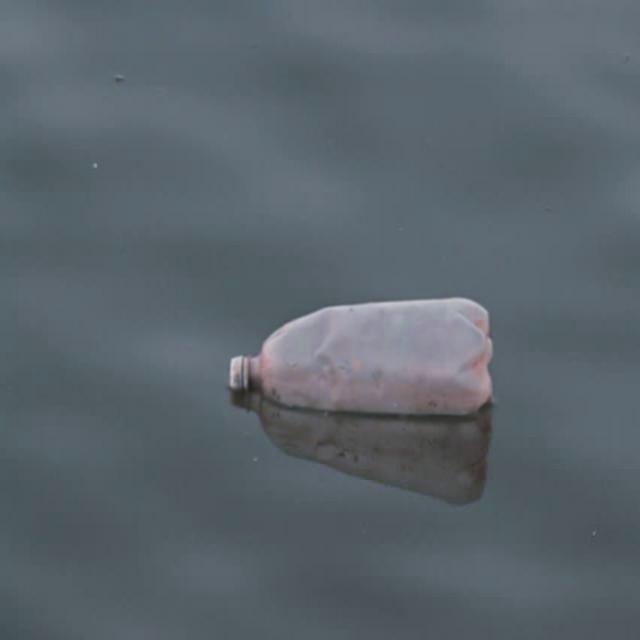Plastic: (222, 291, 501, 430)
